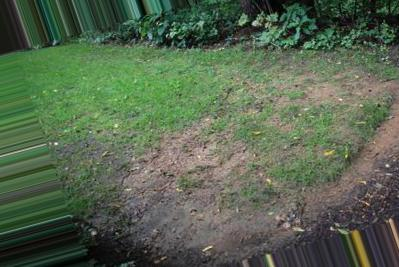patch: (171, 137, 269, 246), (275, 73, 362, 186), (71, 166, 235, 222)
